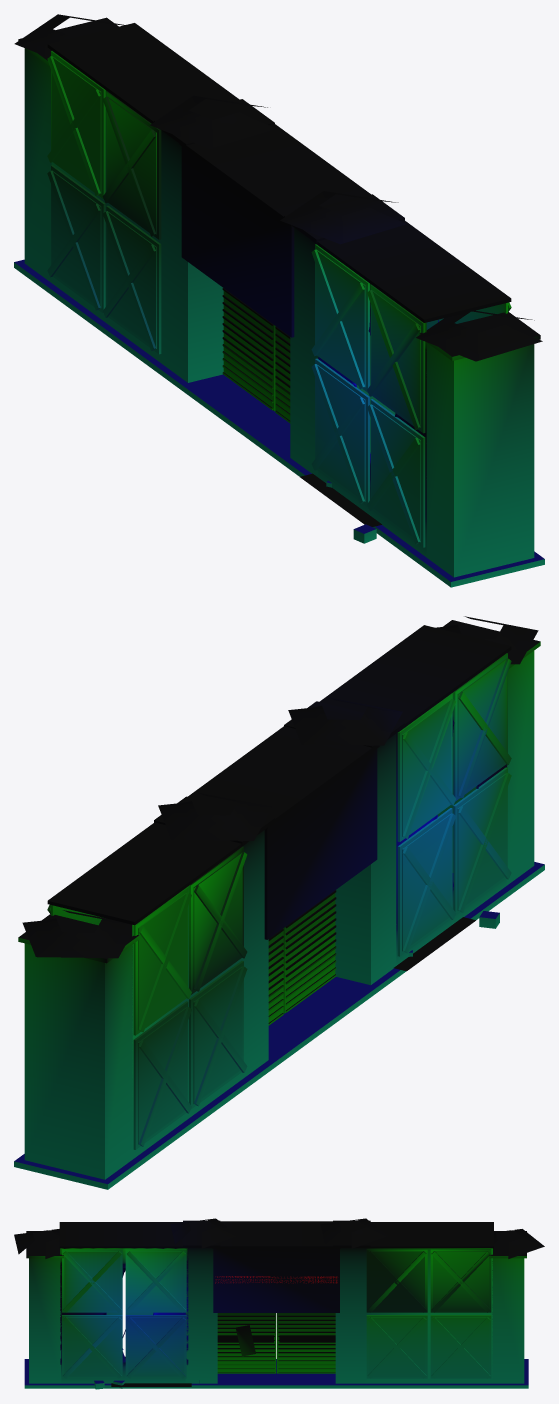
The model's file is l_heavygate_damaged.glb.
The picture shows the model from 3 angles, top to bottom: view 1: azimuth 30°, elevation 25°; view 2: azimuth 150°, elevation 25°; view 3: azimuth 270°, elevation 25°; orthographic projection. The views are drawn at different scales.
Visible parts, largest first — view 1: lod0, door_l, door_r; view 2: lod0, door_r, door_l; view 3: lod0, door_r, door_l.
Boxes of the visible parts, x1=… form: lod0: x1=14, y1=14, x2=544, y2=587; door_l: x1=222, y1=288, x2=275, y2=411; door_r: x1=275, y1=326, x2=290, y2=423; lod0: x1=14, y1=616, x2=544, y2=1189; door_r: x1=283, y1=890, x2=336, y2=1013; door_l: x1=268, y1=928, x2=283, y2=1025; lod0: x1=14, y1=1218, x2=544, y2=1389; door_r: x1=217, y1=1313, x2=276, y2=1373; door_l: x1=277, y1=1313, x2=335, y2=1373.
Size of what is drawn, in the model's own units: 9.5 by 18.48 by 59.41.
